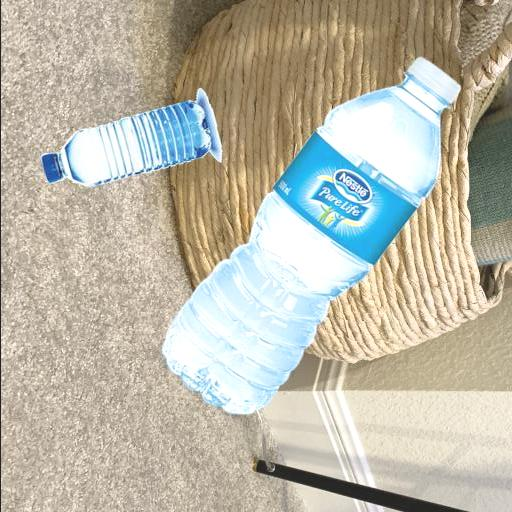bottle: (159, 68, 464, 432), (34, 89, 228, 196)
